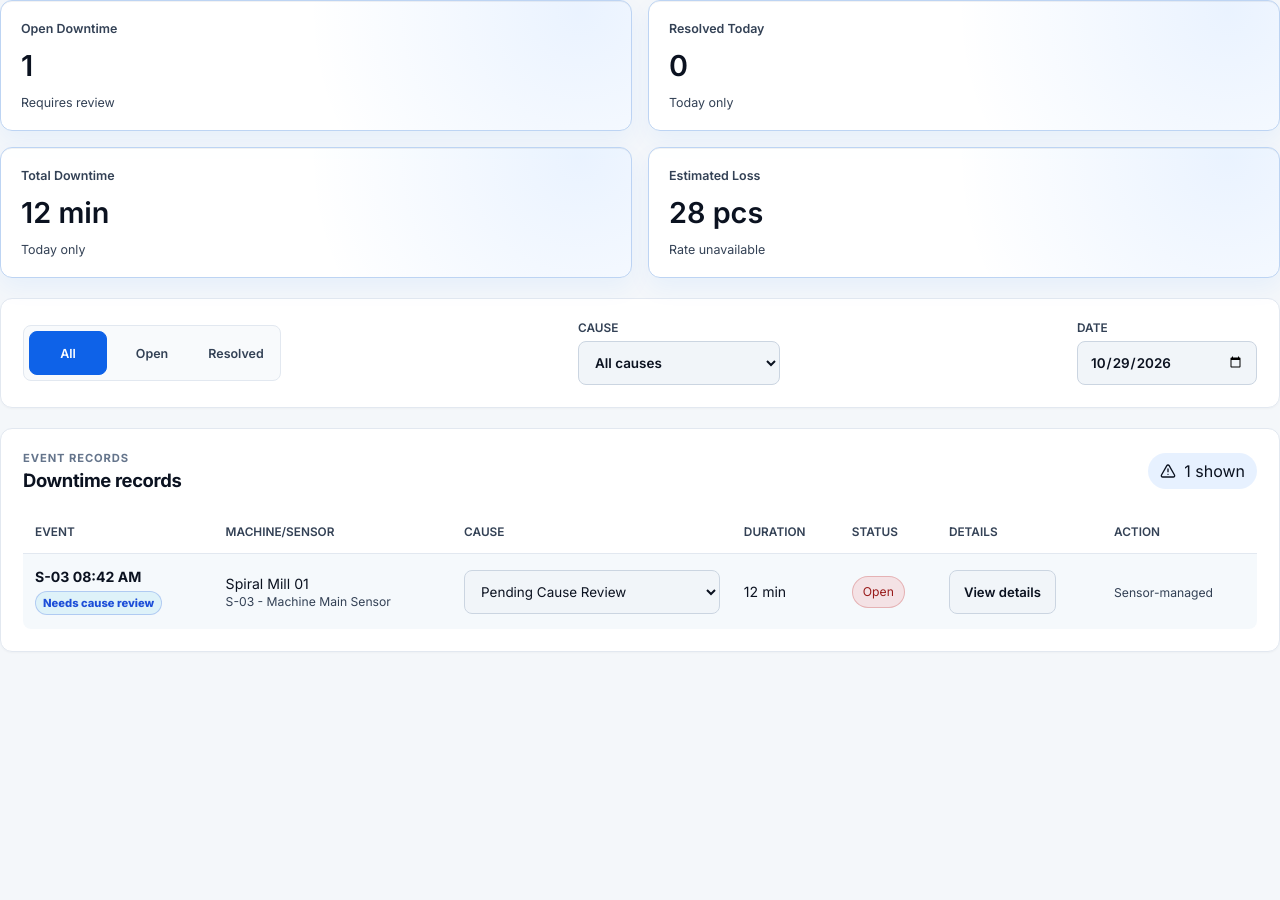
Test case: DowntimeSection › saves inline notes and updates the downtime row
Check: the text "S-03 08:42 AM" is shown, box x1=35 y1=568 x2=141 y2=585
Click the button "View details": (1002, 592) x1=949 y1=570 x2=1056 y2=614
(page scrolled)
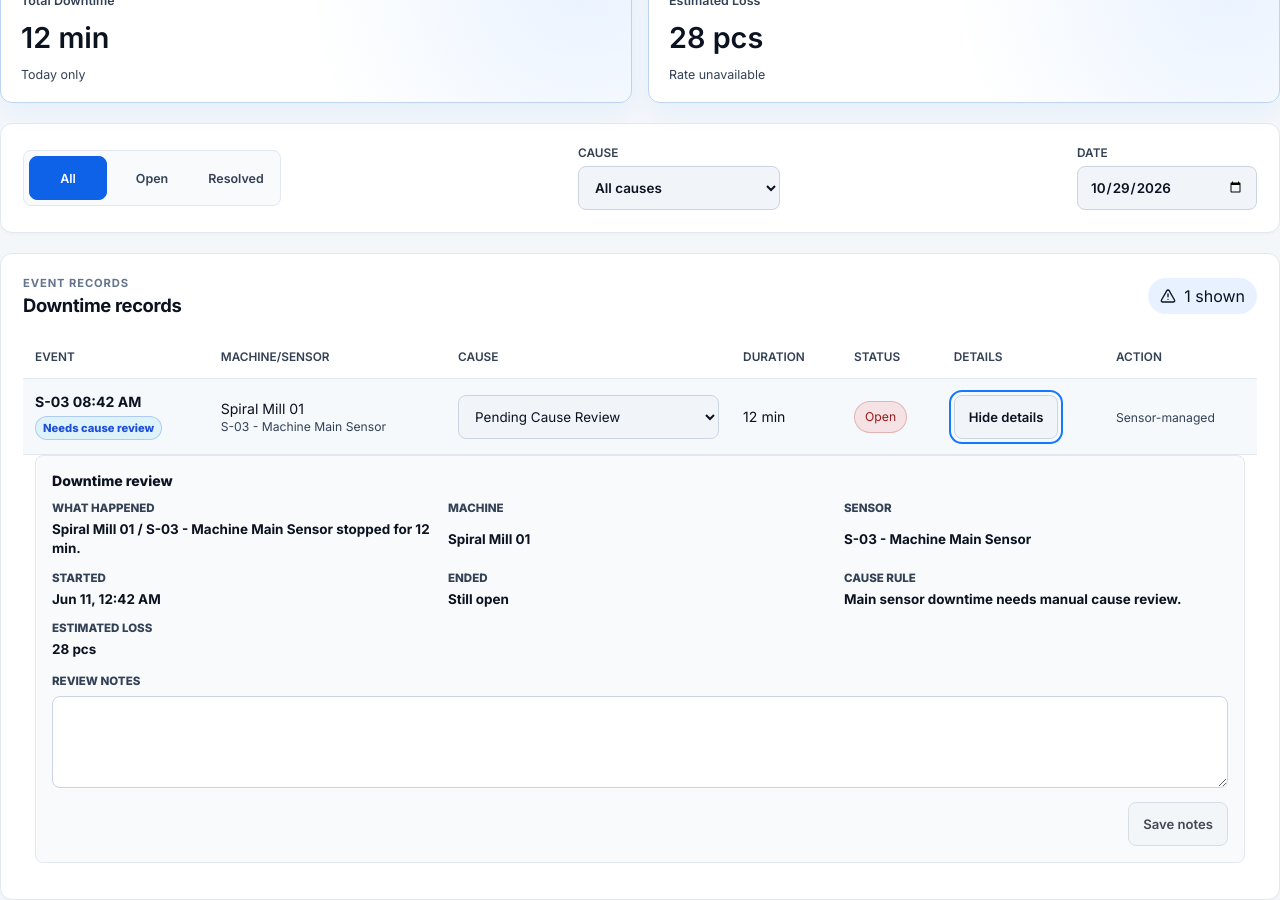
In the text box labelled "Review notes": (640, 742) x1=52 y1=696 x2=1228 y2=788, type "Operator confirmed coil joint replacement."
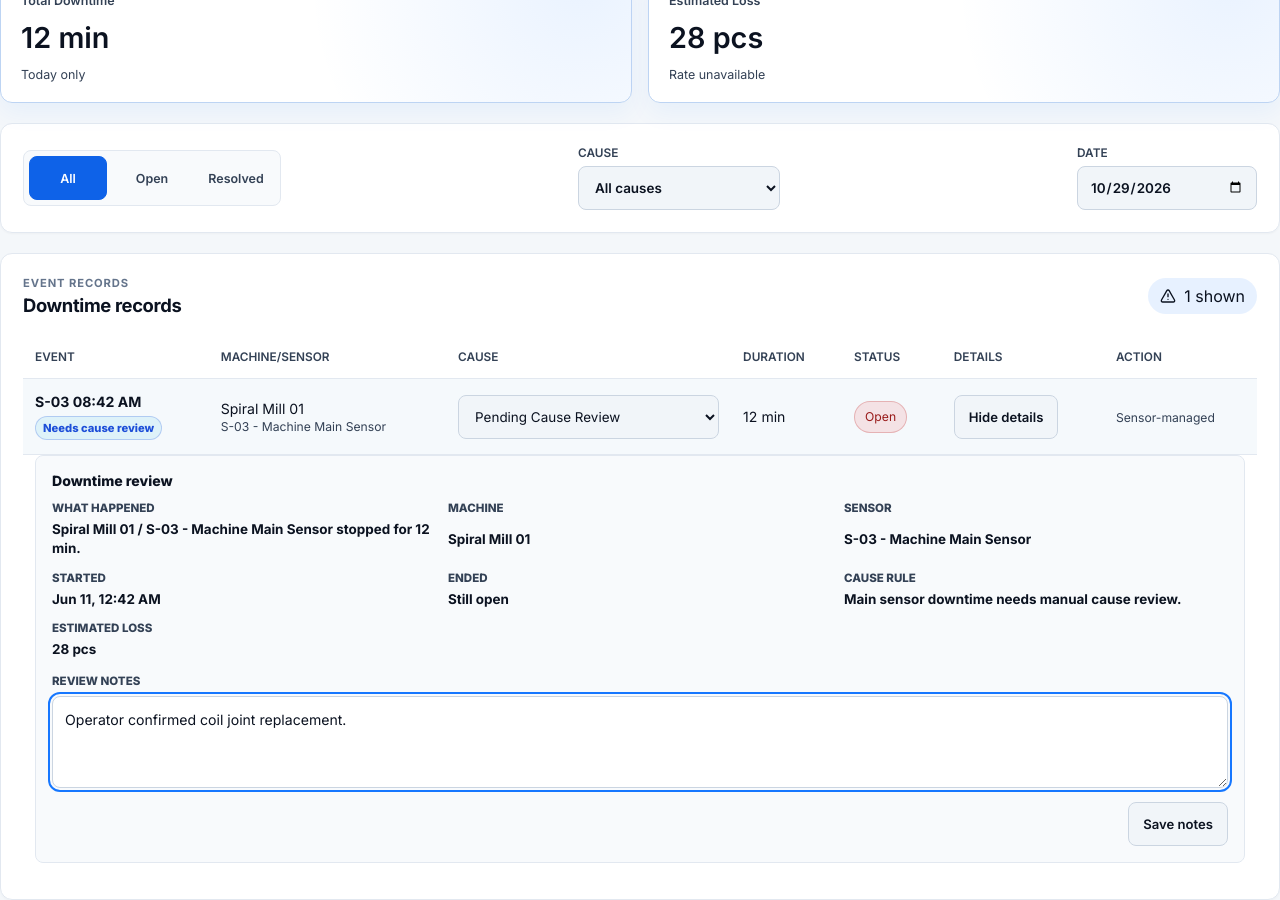
Click the button "Save notes": (1178, 824) x1=1128 y1=802 x2=1228 y2=846
(page scrolled)
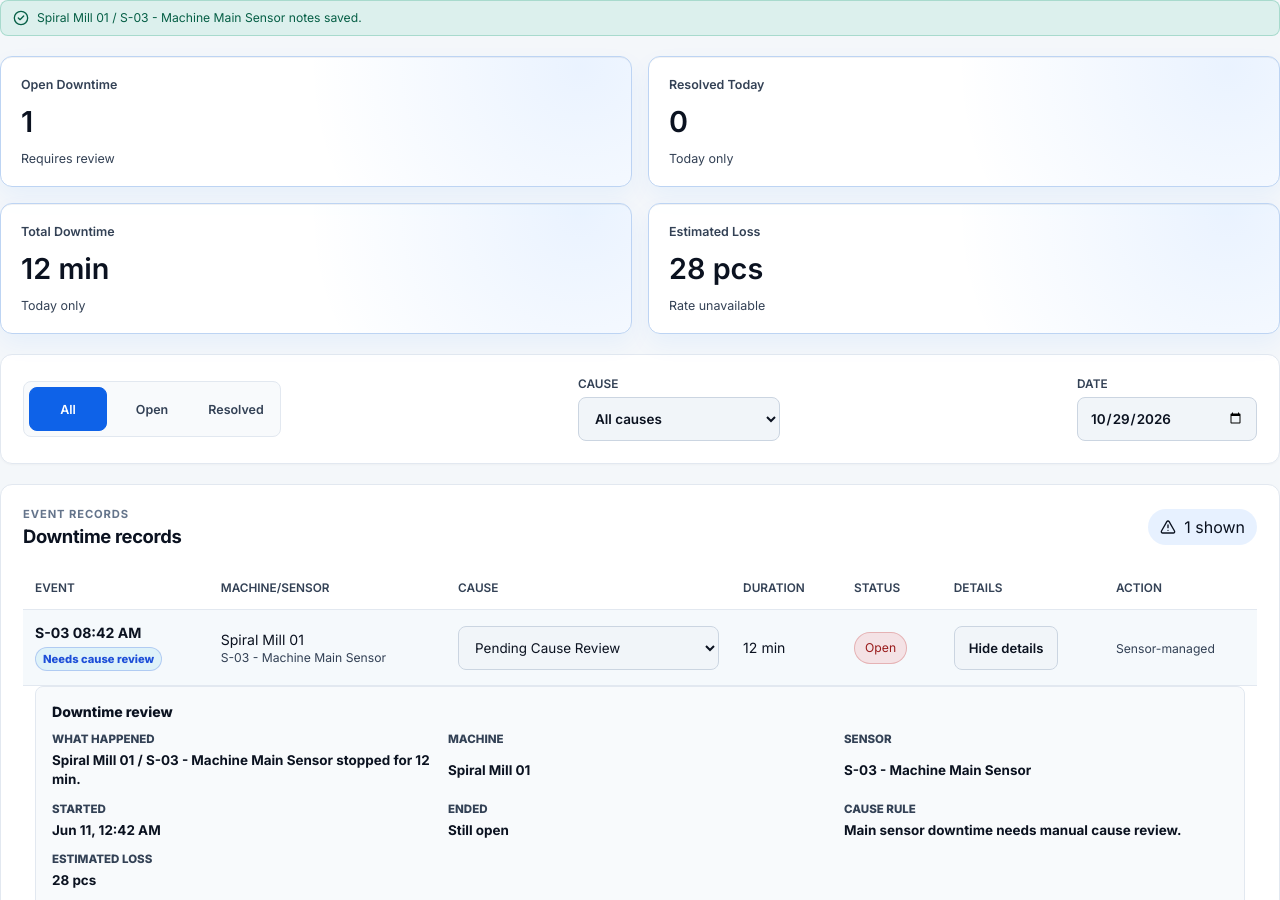
Check: the text "Spiral Mill 01 / S-03 - Machine Main Sensor notes saved." is shown, box x1=37 y1=10 x2=362 y2=26
